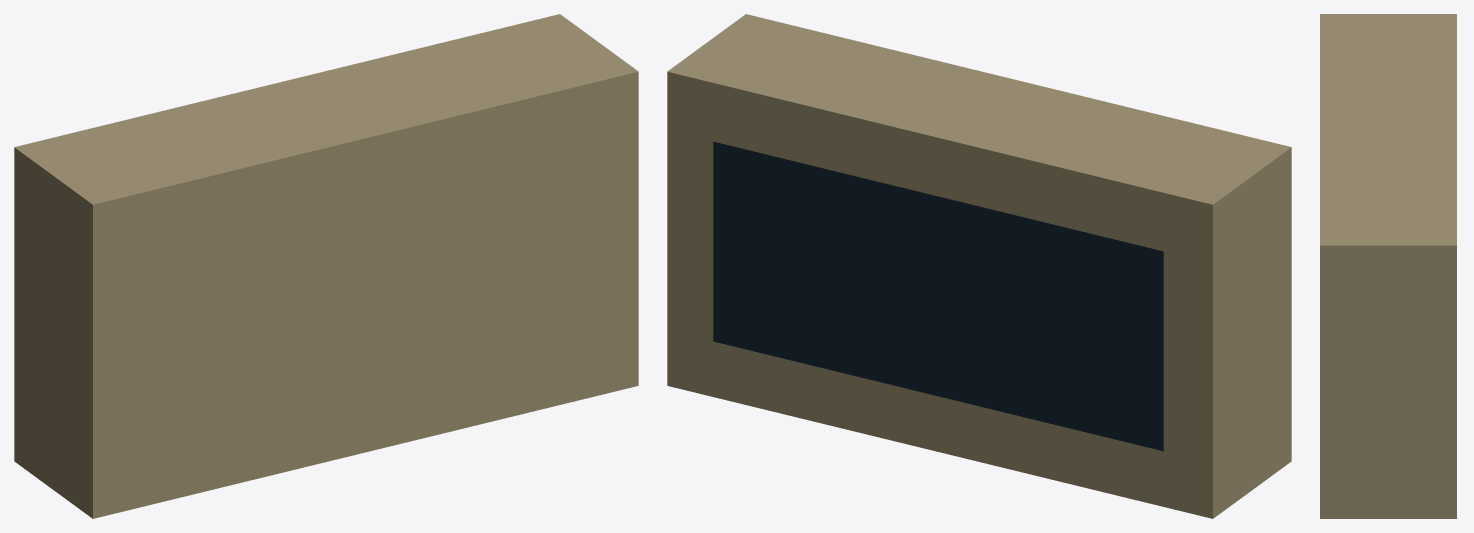
Rendered from digital_clock.obj.
3 renders of one model, left to right at view 1: azimuth 30°, elevation 25°; view 2: azimuth 150°, elevation 25°; view 3: azimuth 270°, elevation 25°, orthographic. The views are drawn at different scales.
Visible parts, largest first — view 1: clock_casing; view 2: clock_casing, runtime_clock; view 3: clock_casing.
Part boxes in pixels (x1=…): clock_casing: x1=14, y1=14, x2=638, y2=518; clock_casing: x1=667, y1=14, x2=1291, y2=518; runtime_clock: x1=713, y1=141, x2=1163, y2=451; clock_casing: x1=1320, y1=14, x2=1456, y2=518.
Size of the model in its own units: 0.4 by 0.22 by 0.102.
